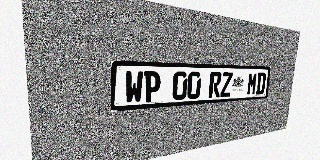0: (172, 71, 188, 100), (187, 72, 201, 99)
D: (255, 73, 266, 95)
M: (246, 72, 258, 95)
P: (143, 71, 161, 102)
R: (208, 72, 222, 98)
W: (125, 71, 144, 104)
Z: (220, 72, 233, 97)
